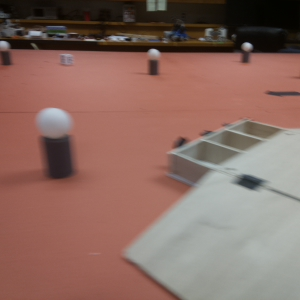obstacle: (36, 107, 76, 181), (147, 47, 161, 79), (1, 41, 15, 65), (242, 39, 251, 63)
slope: (123, 171, 300, 298)
